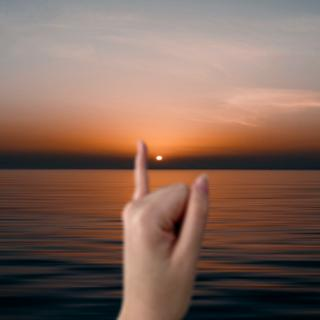Fine: (108, 138, 217, 315)
